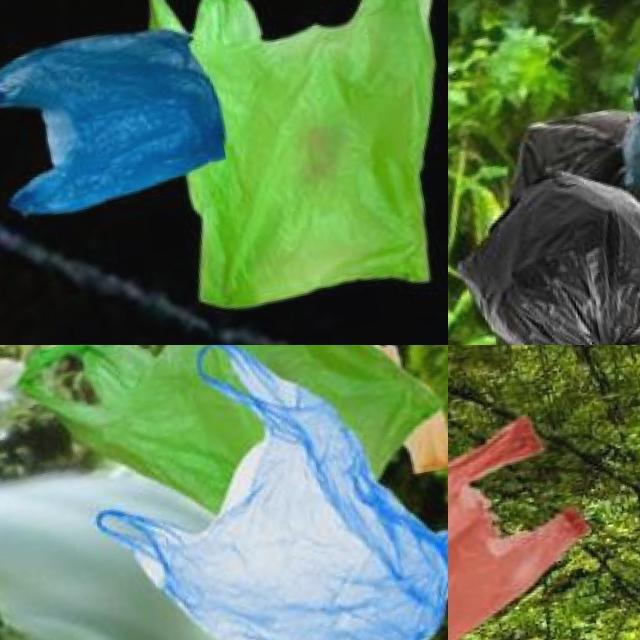waste: (78, 345, 448, 640), (133, 0, 448, 327), (22, 345, 448, 549), (0, 13, 235, 220), (483, 81, 640, 345), (448, 413, 615, 640), (448, 159, 640, 345)
